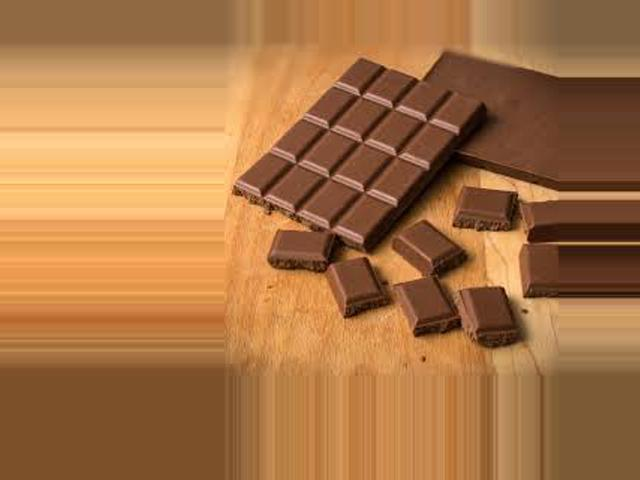chocolate: (239, 56, 485, 260)
